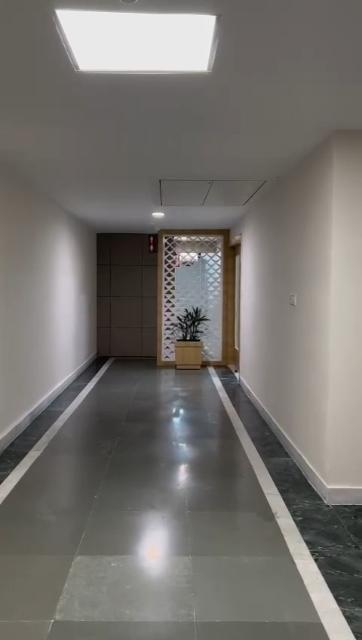door: (224, 248, 241, 366)
floor: (0, 354, 362, 640)
object: (174, 304, 206, 374)
wall: (241, 134, 362, 484), (0, 165, 94, 431)
